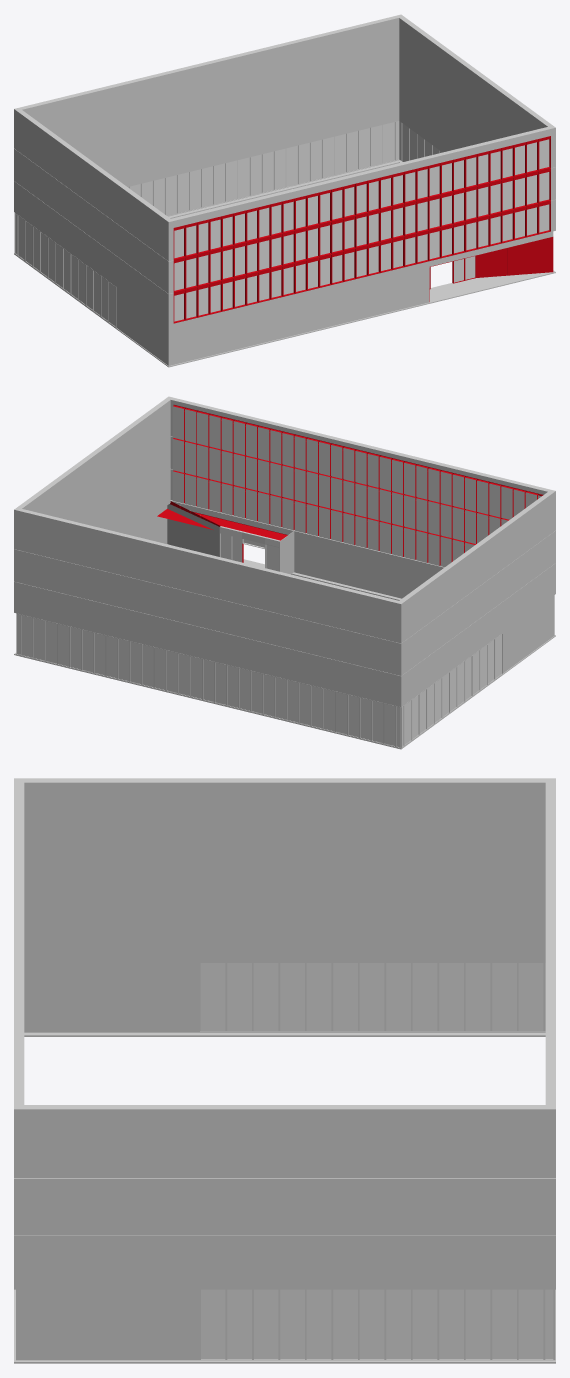
Rendered from RITS.fbx.
The picture shows the model from 3 angles, top to bottom: view 1: azimuth 30°, elevation 25°; view 2: azimuth 150°, elevation 25°; view 3: azimuth 270°, elevation 25°; orthographic projection. The views are drawn at different scales.
Visible parts, largest first — view 1: Cube.001; view 2: Cube.001; view 3: Cube.001.
Part boxes in pixels (<box>): Cube.001: <box>14,14,555,367</box>; Cube.001: <box>14,396,555,749</box>; Cube.001: <box>14,778,555,1363</box>.
Size of the model in its own units: 4137 by 1484 by 2863.
